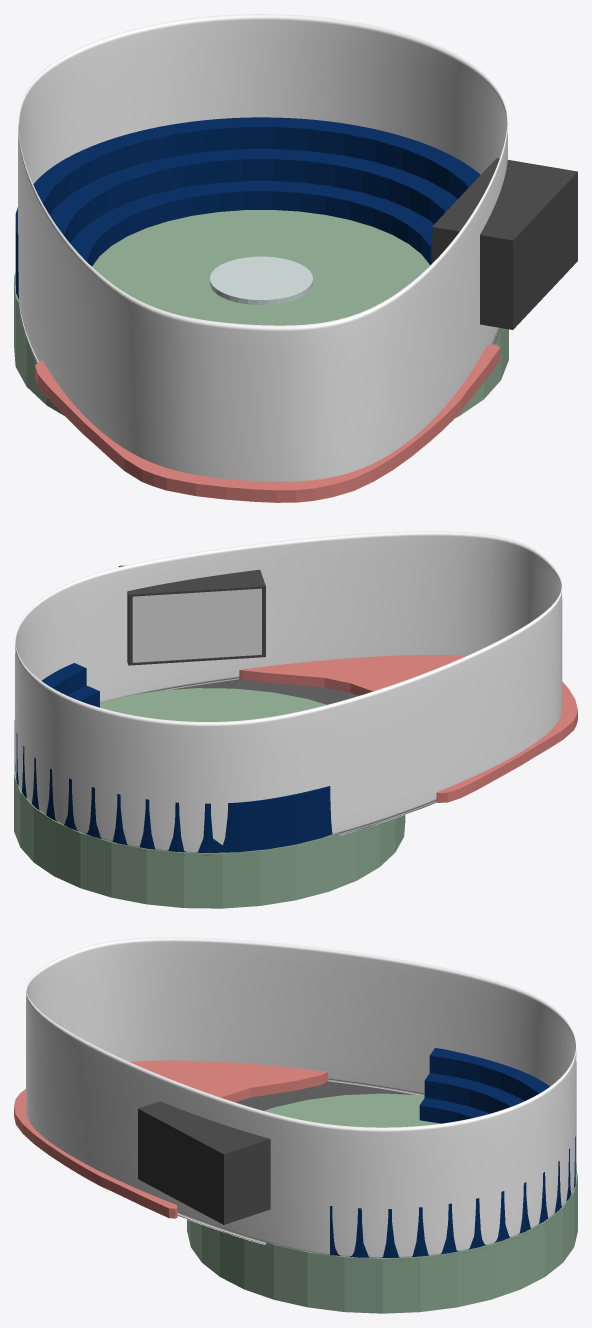
Rendered from escenario.fbx.
3 views of the same model, one above another, from view 1: azimuth 30°, elevation 25°; view 2: azimuth 150°, elevation 25°; view 3: azimuth 270°, elevation 25° (orthographic). The views are drawn at different scales.
Parts seen in each view (by area): view 1: Pared, Gradas, Suelo, Pantalla_marco, Escenario, Pedestal, Ascensor; view 2: Pared, Suelo, Gradas, Pantalla, Escenario, Pantalla_marco, Fondo, Ascensor; view 3: Pared, Suelo, Pantalla_marco, Gradas, Escenario, Fondo.
Part boxes in pixels (bbox=[...]): Pared: bbox=[18, 14, 507, 481]; Gradas: bbox=[15, 117, 480, 299]; Suelo: bbox=[14, 210, 508, 418]; Pantalla_marco: bbox=[432, 158, 577, 329]; Escenario: bbox=[35, 344, 499, 502]; Pedestal: bbox=[210, 256, 312, 304]; Ascensor: bbox=[287, 274, 420, 323]; Pared: bbox=[15, 531, 562, 852]; Suelo: bbox=[14, 688, 405, 908]; Gradas: bbox=[14, 663, 332, 852]; Pantalla: bbox=[132, 588, 261, 662]; Escenario: bbox=[239, 655, 577, 802]; Pantalla_marco: bbox=[118, 565, 265, 665]; Fondo: bbox=[21, 679, 436, 855]; Ascensor: bbox=[161, 715, 256, 721]; Pared: bbox=[26, 937, 576, 1257]; Suelo: bbox=[187, 1093, 577, 1313]; Pantalla_marco: bbox=[138, 1101, 270, 1224]; Gradas: bbox=[330, 1048, 576, 1257]; Escenario: bbox=[14, 1060, 328, 1218]; Fondo: bbox=[177, 1081, 562, 1260].
Size of the model in its own units: 2077 by 1702 by 753.
